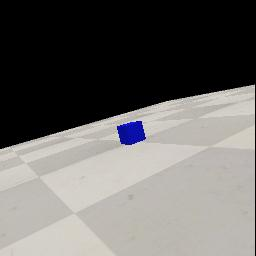box: (117, 121, 146, 145)
